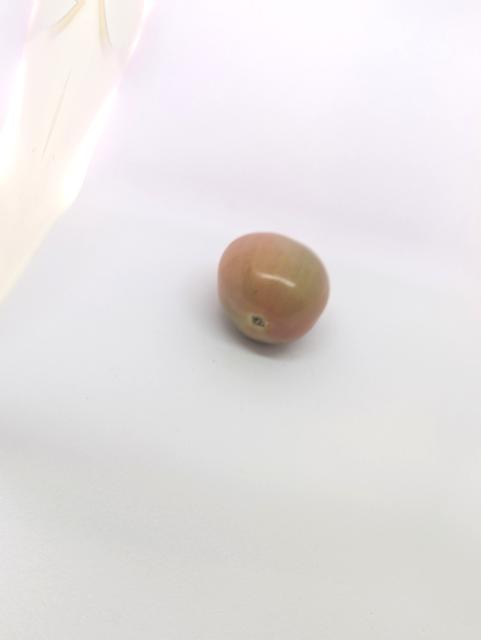turning: (207, 222, 342, 352)
